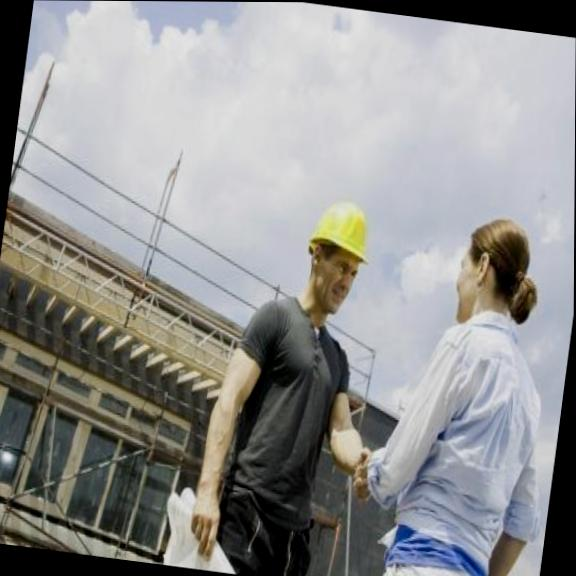no_safety_vest: (364, 301, 565, 576), (194, 289, 366, 525)
